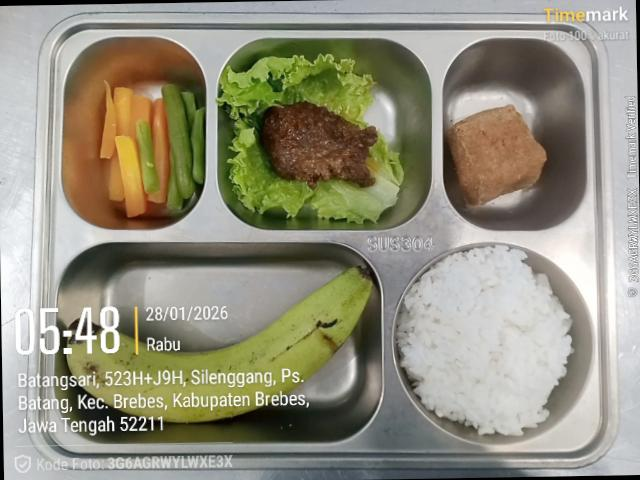ayam: (260, 101, 377, 189)
buah: (67, 267, 373, 422)
nasi: (396, 245, 573, 435)
sayur: (217, 54, 403, 223), (102, 80, 206, 217)
tahu: (448, 104, 546, 206)
